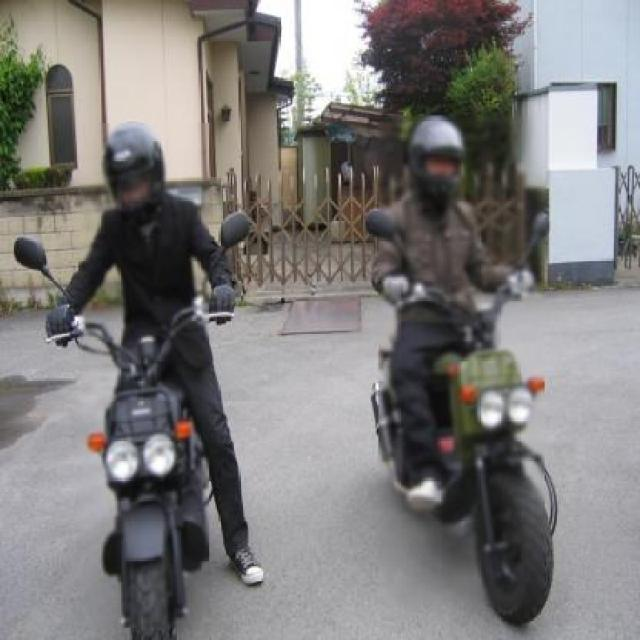helmet: (83, 120, 183, 231), (400, 118, 473, 213)
motorcycle: (0, 109, 274, 640), (368, 112, 568, 630)
